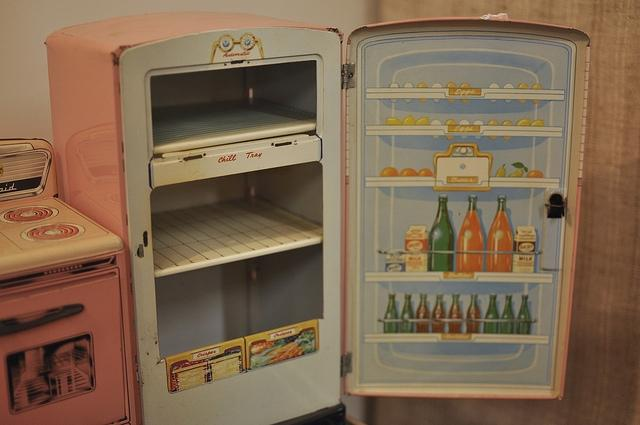carrot: (265, 342, 295, 356), (280, 344, 298, 358)
orange: (380, 167, 400, 176), (526, 170, 544, 178), (400, 168, 418, 176), (418, 168, 432, 176)
